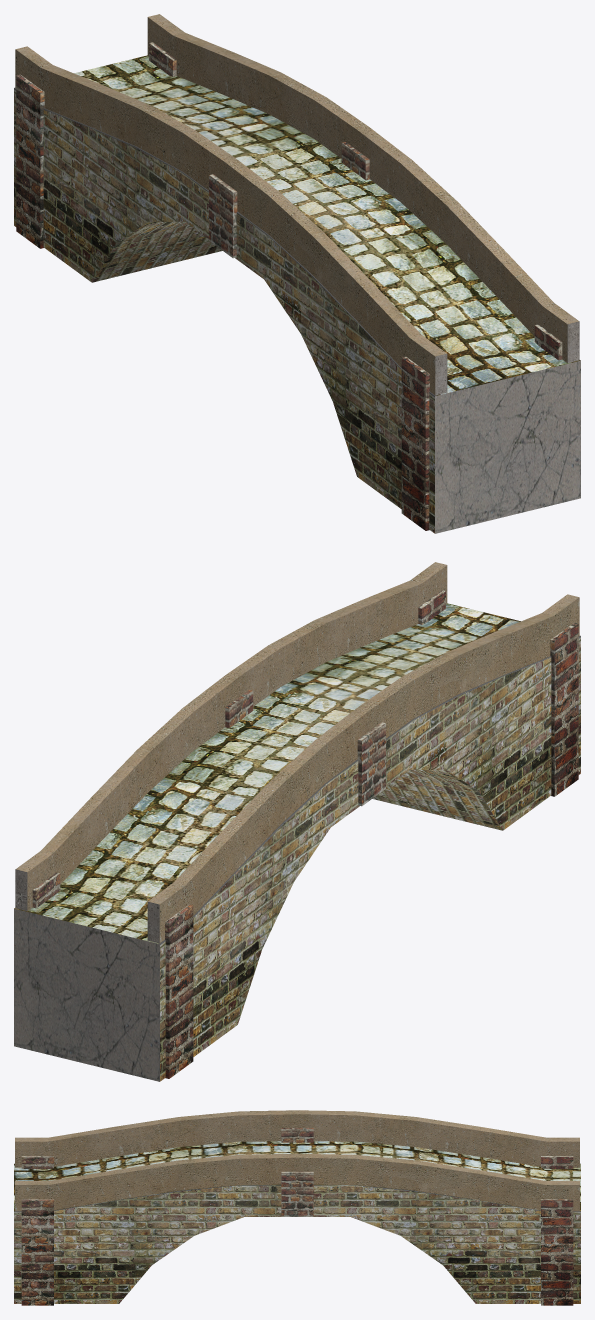
Rendered from bridge_textured.FBX.
3 renders of one model, top to bottom at view 1: azimuth 30°, elevation 25°; view 2: azimuth 150°, elevation 25°; view 3: azimuth 270°, elevation 25°, orthographic. The views are drawn at different scales.
Parts seen in each view (by area): view 1: Stone_Bridge; view 2: Stone_Bridge; view 3: Stone_Bridge.
Boxes of the visible parts, x1,y1,x2,y2 form: Stone_Bridge: [14, 14, 580, 533]; Stone_Bridge: [14, 562, 580, 1081]; Stone_Bridge: [14, 1110, 580, 1305].
Size of the model in its own units: 244 by 332 by 1164.
